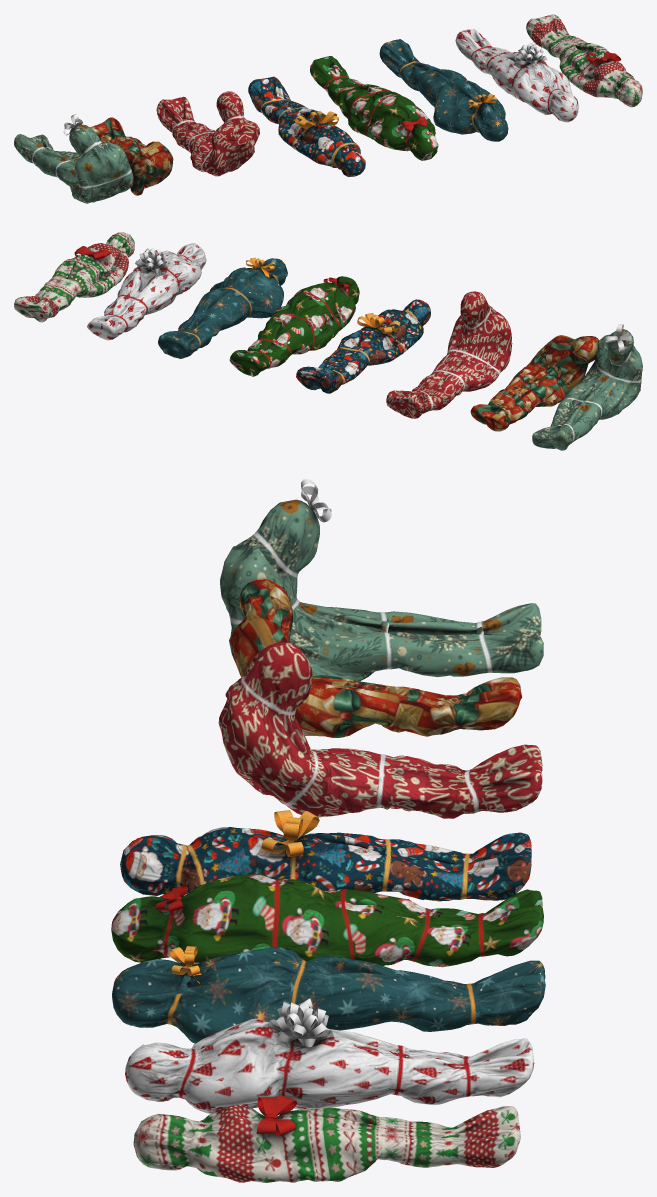
File: bodybags.glb
The picture shows the model from 3 angles, top to bottom: view 1: azimuth 30°, elevation 25°; view 2: azimuth 150°, elevation 25°; view 3: azimuth 270°, elevation 25°; orthographic projection. The views are drawn at different scales.
Visible parts, largest first — view 1: Object003_Material #293_0, Object003_08 - Default_0; view 2: Object003_Material #293_0, Object003_08 - Default_0; view 3: Object003_Material #293_0, Object003_08 - Default_0.
Part boxes in pixels (x1,y1,x2,y2): Object003_Material #293_0: (14,14,642,203); Object003_08 - Default_0: (63,42,621,135); Object003_Material #293_0: (14,232,642,450); Object003_08 - Default_0: (74,246,631,351); Object003_Material #293_0: (111,499,545,1182); Object003_08 - Default_0: (155,479,333,1136).
Size of the model in its own units: 5.66 by 0.9318 by 1.93.
Materials: 2 (2 with a texture image).
